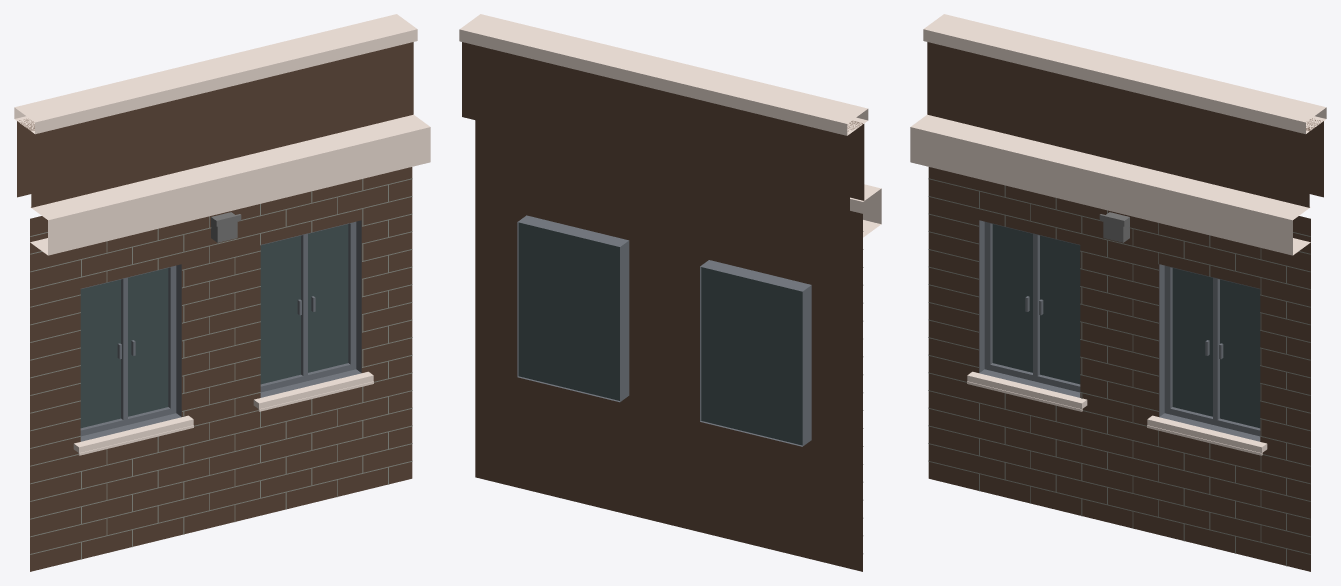
The model's file is top-w3_close.fbx.
The picture shows the model from 3 angles, left to right: view 1: azimuth 30°, elevation 25°; view 2: azimuth 150°, elevation 25°; view 3: azimuth 330°, elevation 25°; orthographic projection.
Parts seen in each view (by area): view 1: a2001/800/top-w3_close; view 2: a2001/800/top-w3_close; view 3: a2001/800/top-w3_close.
Boxes of the visible parts, x1,y1,x2,y2 form: a2001/800/top-w3_close: [14, 14, 430, 571]; a2001/800/top-w3_close: [459, 14, 881, 571]; a2001/800/top-w3_close: [910, 14, 1326, 571].
Bounding box in the file's own units: 3.4 × 3.85 × 0.52.
